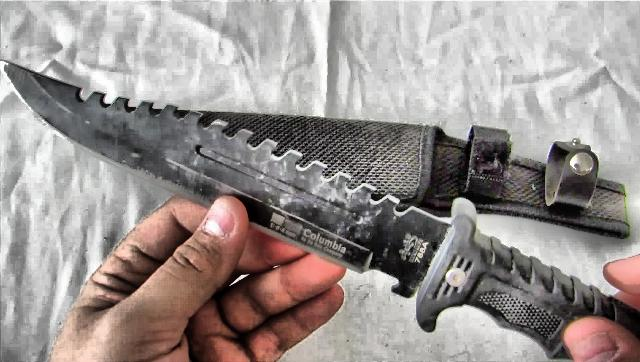knife: (1, 50, 640, 362)
